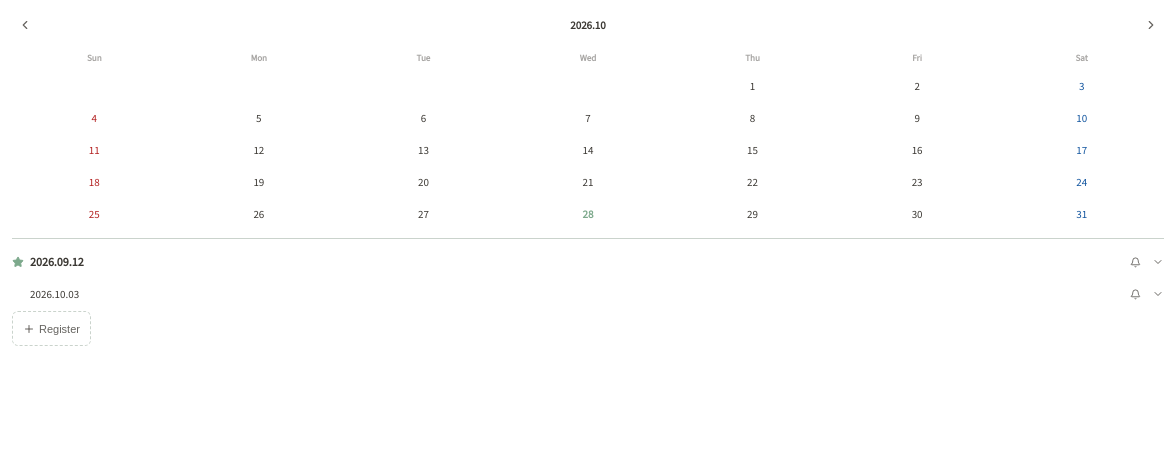
Test: DatesPanel — 노트 id 하나로 자족한다 › 관련 행 클릭은 선택이면서 동시에 그 행을 펼친다(§P1 아코디언)
Click the option with test id "note-date-row-d1".
click(55, 294)  # box [12,279,1164,309]
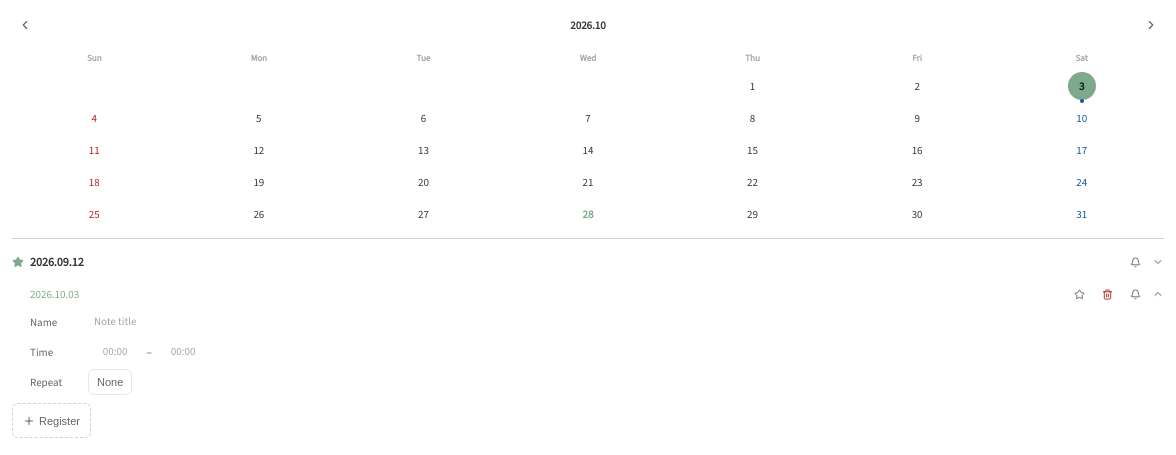
Expected: the element with test id "note-date-body-d1" is shown, [12,309,1164,401]
